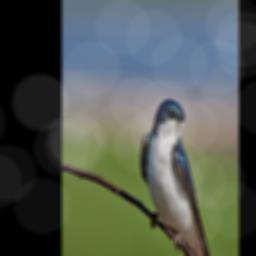Swallow: (138, 95, 221, 256)
